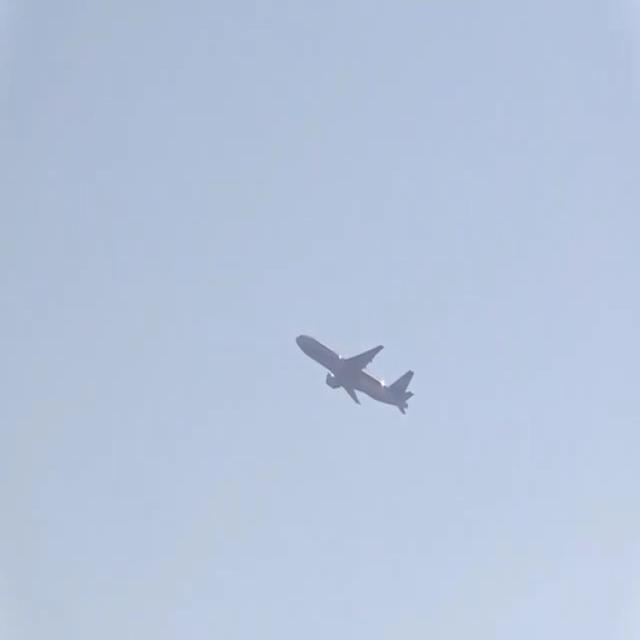AirPlane: (281, 314, 424, 431)
